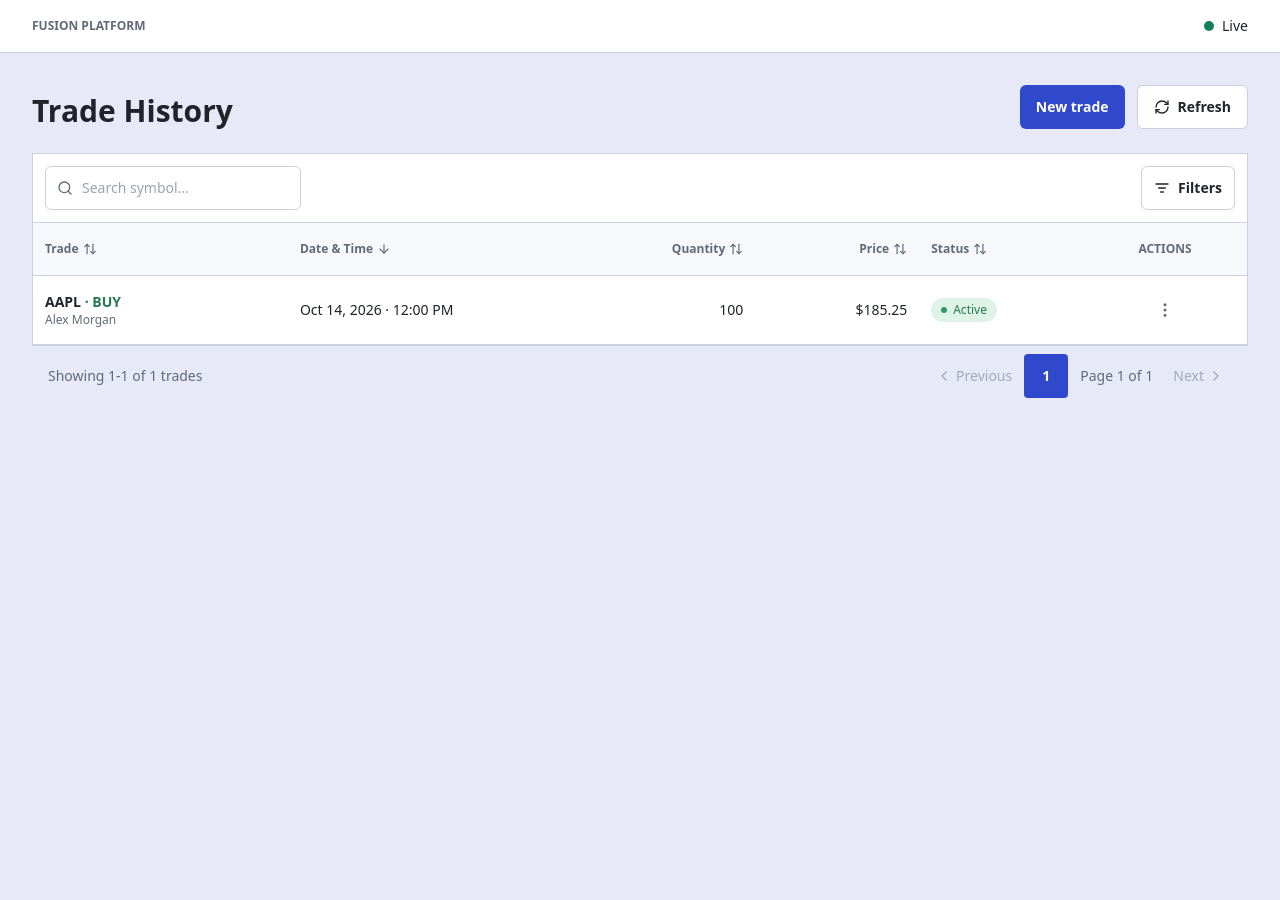
Test: TradeHistoryPage › amends a selected trade and displays the canonical response
Click the button named "Trade actions for trade-1" at (1165, 310), box [1143,288,1187,332]
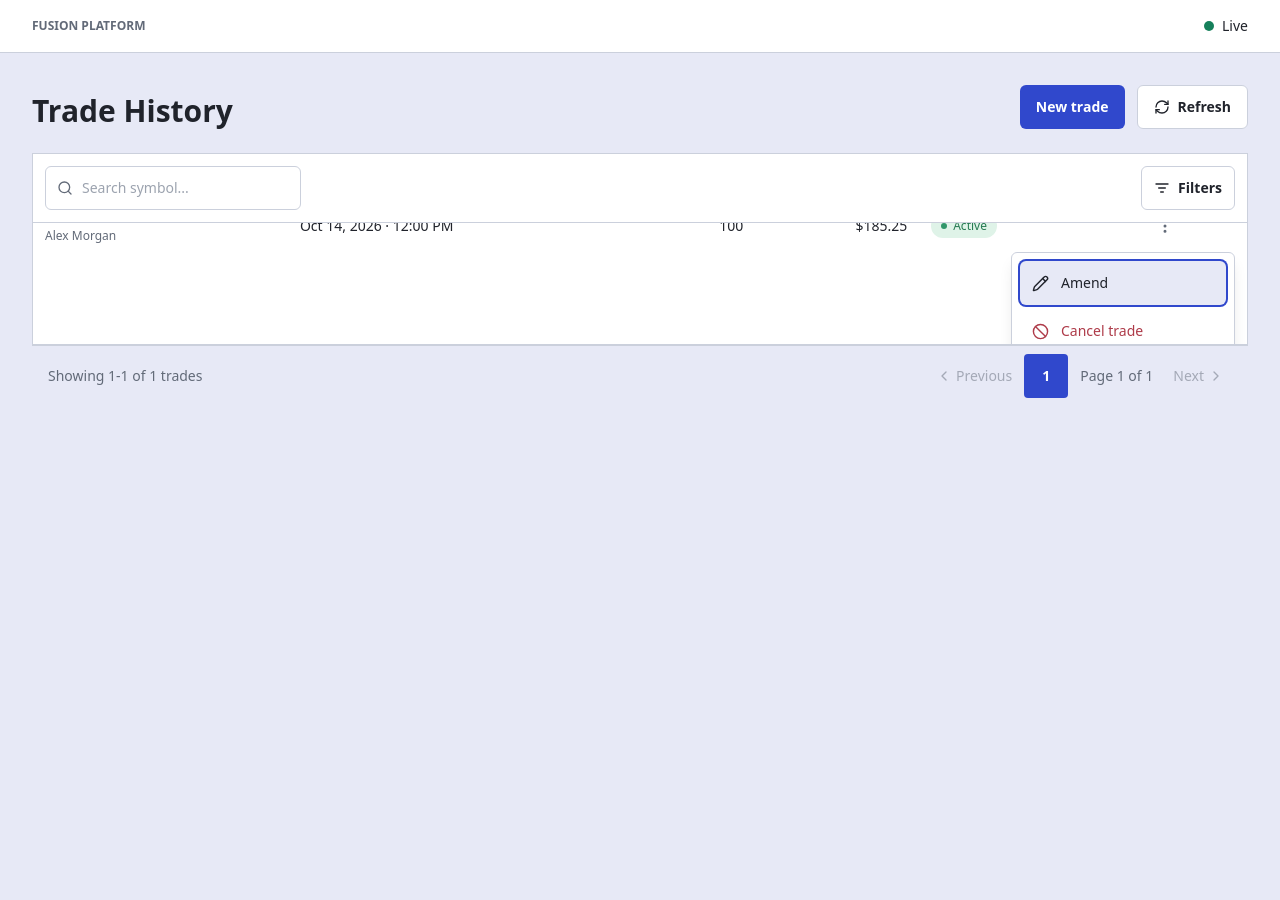
Click the menu item "Amend" at (1123, 283), box [1020,261,1226,305]
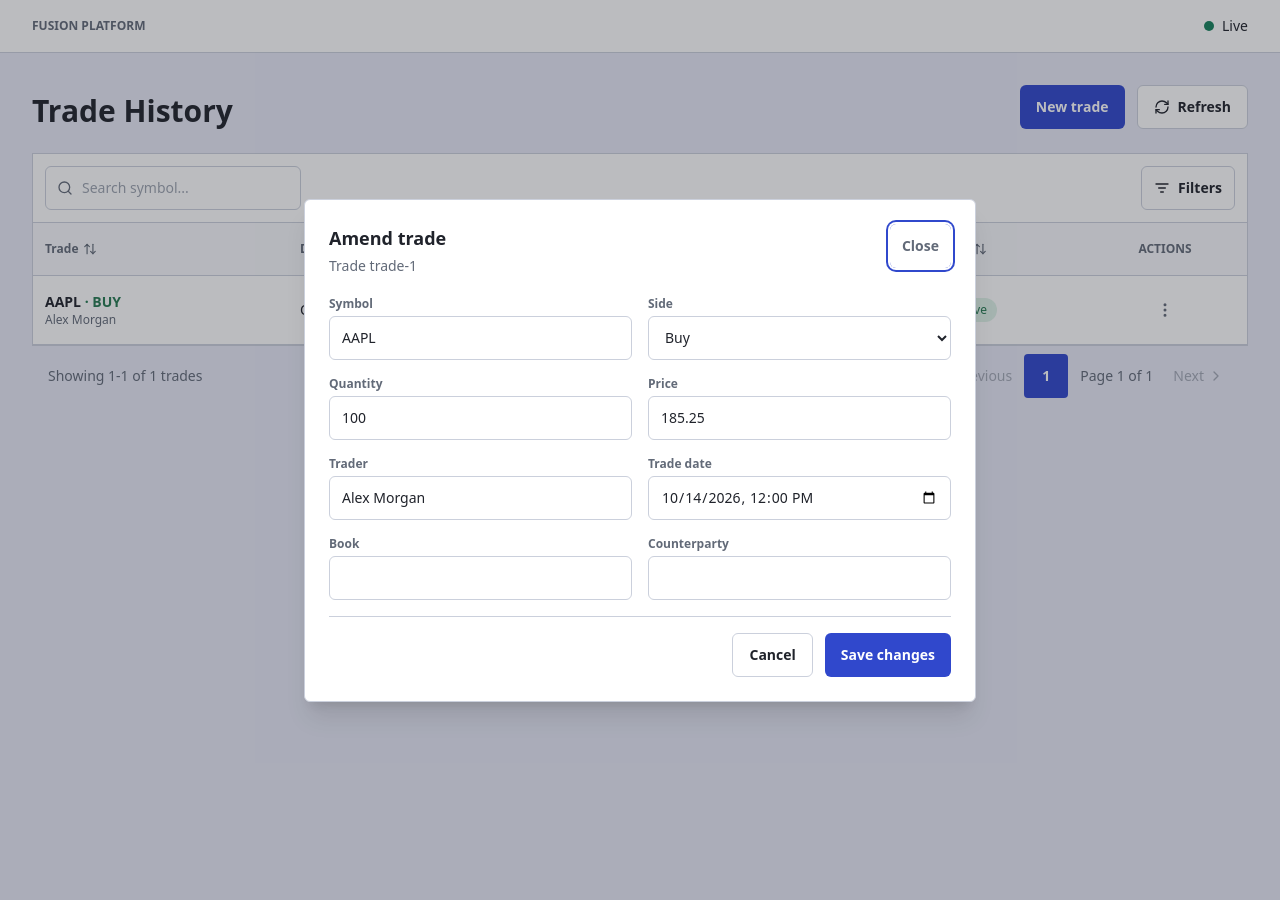
Replace the text in the field labelled "Symbol" with "MSFT" at (480, 338), box [329,316,632,360]
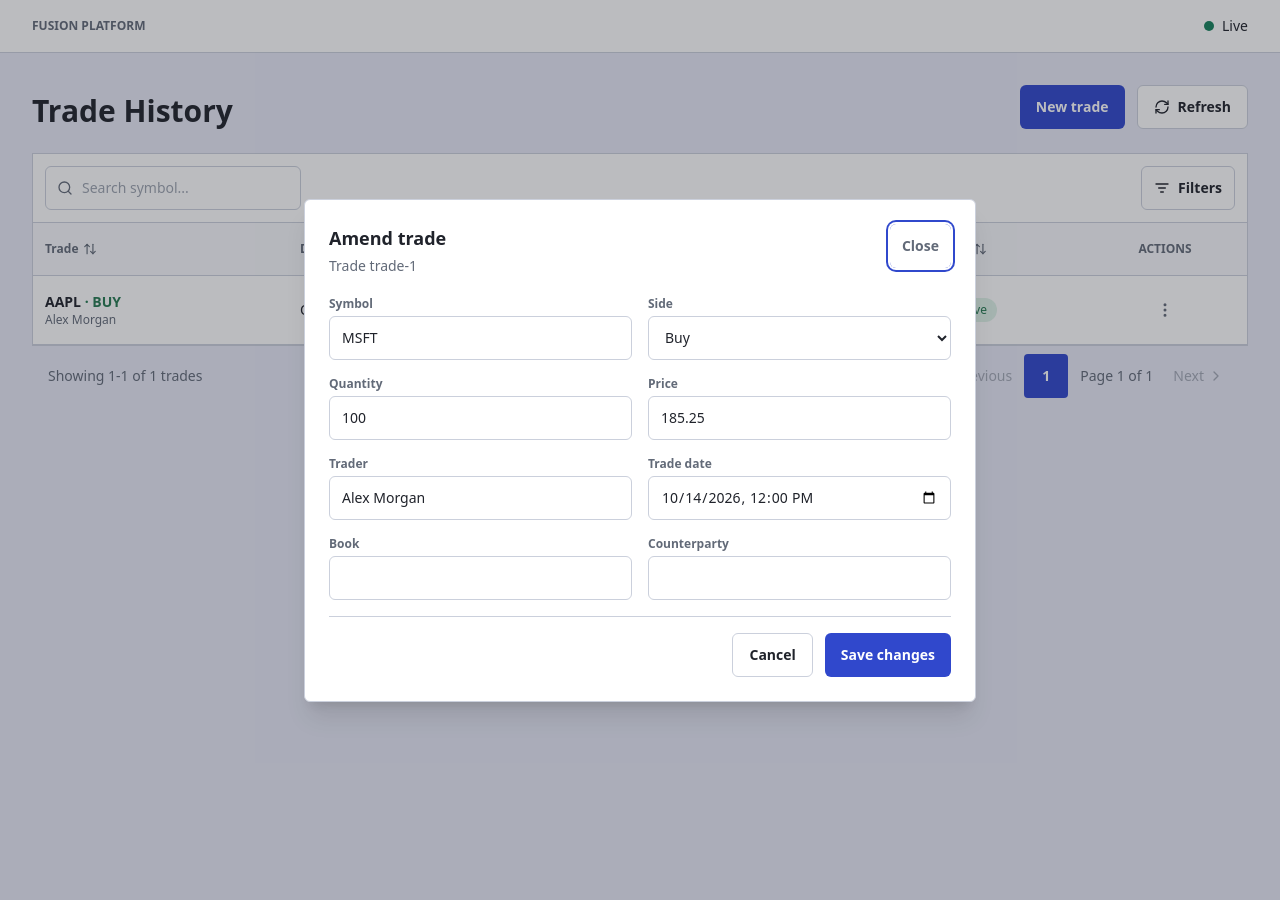
Click the button "Save changes" at (888, 654), box [825,632,951,676]
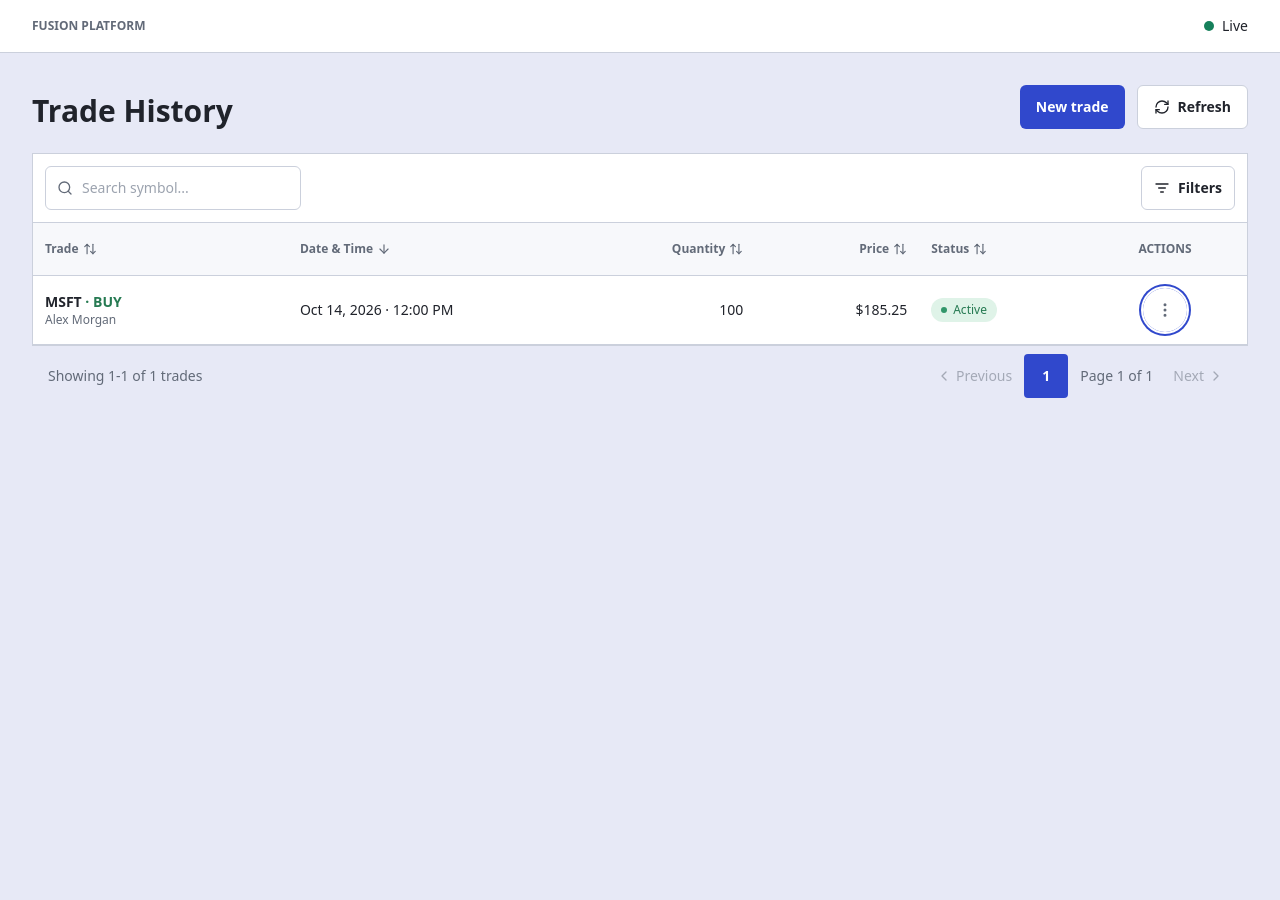
expect the text "MSFT" is shown: met, box [45,292,82,311]
